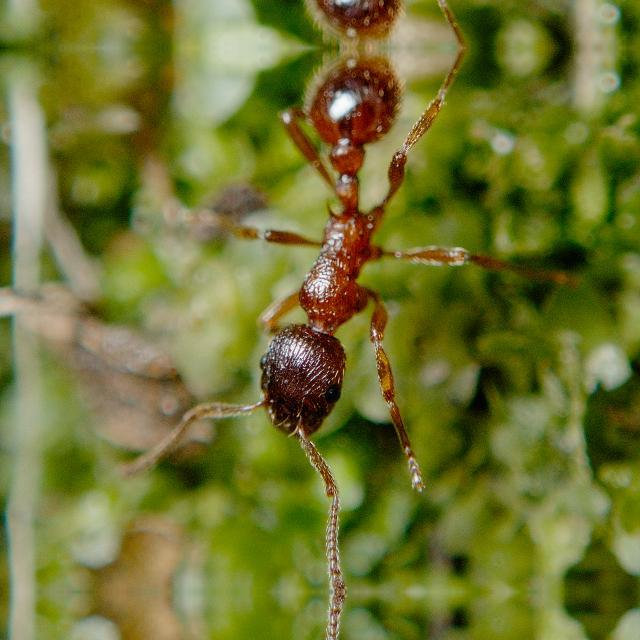Myrmica: (188, 51, 510, 493)
